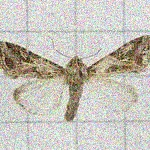Spodoptera litura: (1, 35, 150, 121)
